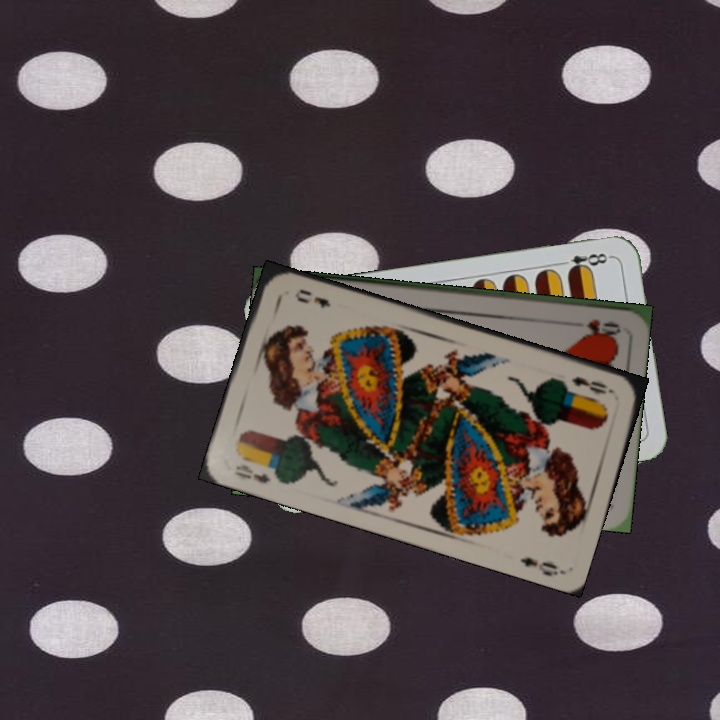E8: (555, 249, 614, 276)
EO: (230, 460, 285, 486), (567, 372, 617, 397)
HO: (583, 315, 623, 336)
